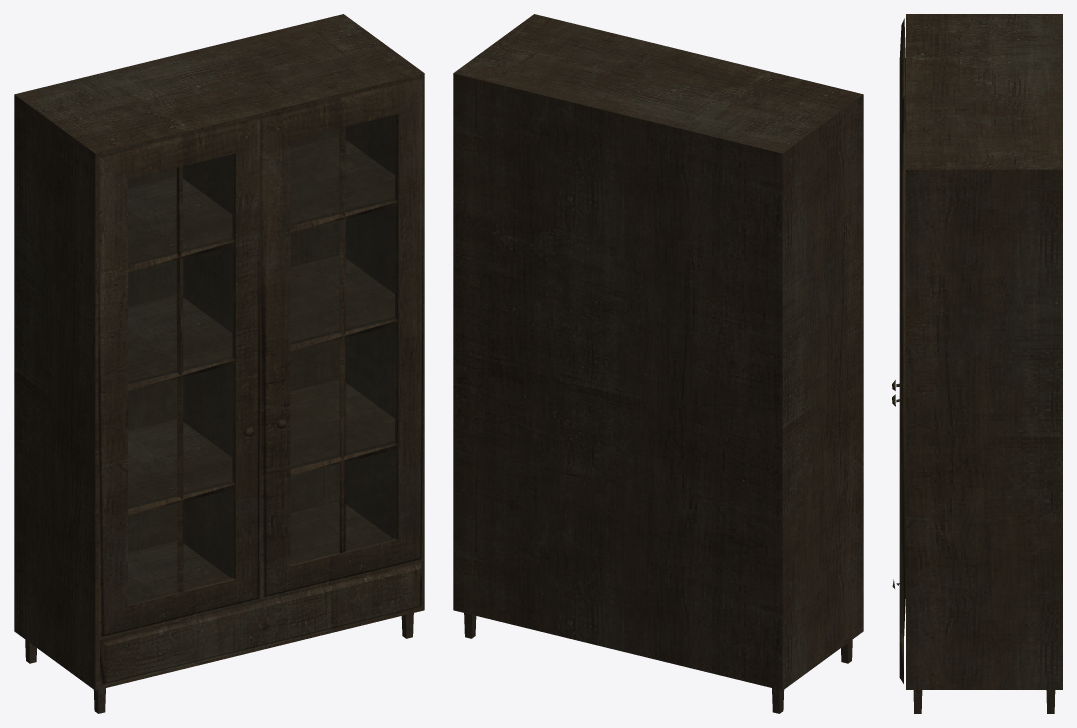
The model's file is wardrobe_mp_2_4.glb.
The picture shows the model from 3 angles, left to right: view 1: azimuth 30°, elevation 25°; view 2: azimuth 150°, elevation 25°; view 3: azimuth 270°, elevation 25°; orthographic projection. The views are drawn at different scales.
Visible parts, largest first — view 1: wardrobe_mp_2_4, wardrobe_mp_2_4_drawer; view 2: wardrobe_mp_2_4; view 3: wardrobe_mp_2_4, wardrobe_mp_2_4_drawer.
Boxes of the visible parts, left/top/right/bottom form: wardrobe_mp_2_4: left=14, top=14, right=424, bottom=713; wardrobe_mp_2_4_drawer: left=100, top=562, right=422, bottom=686; wardrobe_mp_2_4: left=453, top=14, right=863, bottom=713; wardrobe_mp_2_4: left=892, top=14, right=1062, bottom=713; wardrobe_mp_2_4_drawer: left=892, top=579, right=903, bottom=683.
Bounding box in the file's own units: 1.22 × 2 × 0.5657.
Materials: 2 (2 with a texture image).
